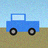vehicle: (6, 14, 39, 35)
